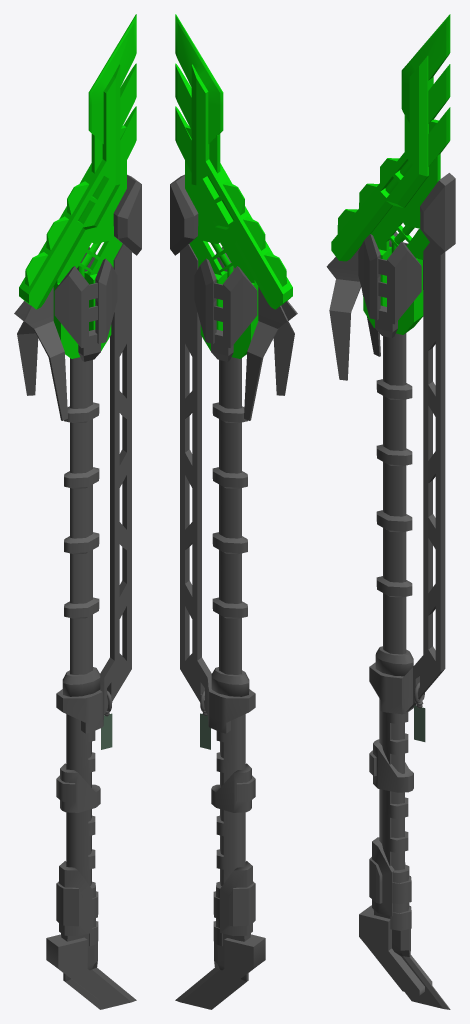
File: Spear.fbx
3 renders of one model, left to right at view 1: azimuth 30°, elevation 25°; view 2: azimuth 150°, elevation 25°; view 3: azimuth 330°, elevation 25°, orthographic.
Visible parts, largest first — view 1: Spear, Feather; view 2: Spear, Feather; view 3: Spear, Feather.
Boxes of the visible parts, left/top/right/bottom form: Spear: left=14, top=14, right=141, bottom=1009; Feather: left=101, top=713, right=112, bottom=749; Spear: left=170, top=14, right=297, bottom=1009; Feather: left=200, top=713, right=210, bottom=749; Spear: left=326, top=14, right=455, bottom=1009; Feather: left=414, top=705, right=425, bottom=741.
Size of the model in its own units: 1.46 by 11.74 by 0.7717.
